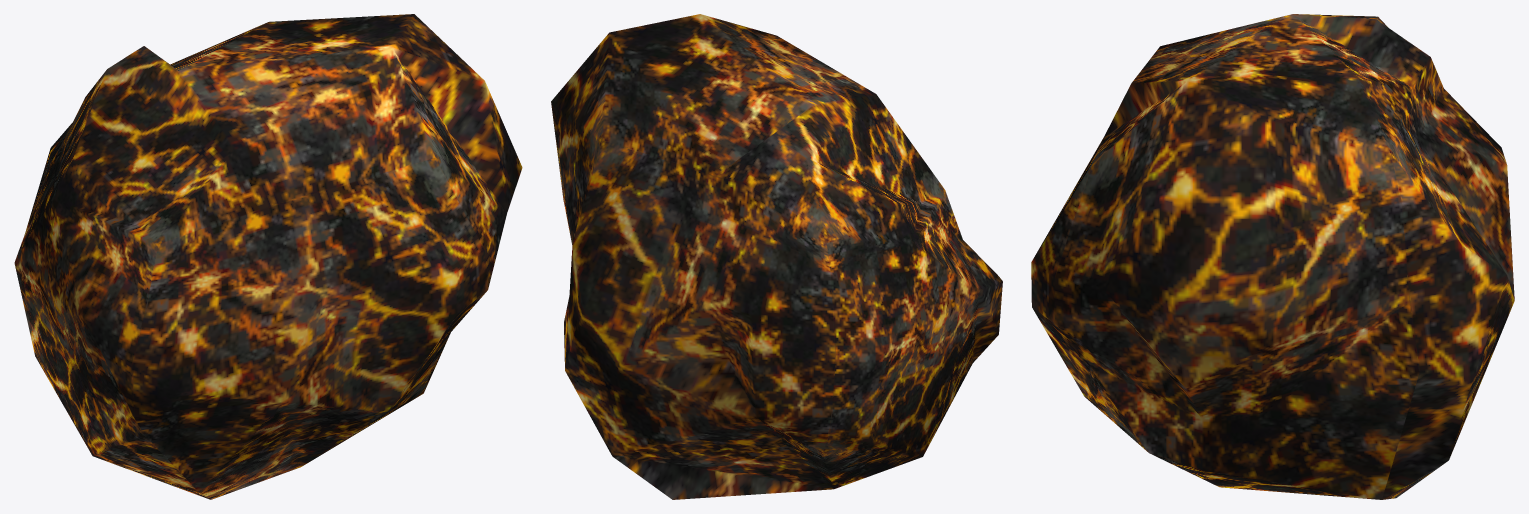
File: asteroid_moltenrock_medium_s02_l2.fbx
3 renders of one model, left to right at view 1: azimuth 30°, elevation 25°; view 2: azimuth 150°, elevation 25°; view 3: azimuth 270°, elevation 25°, orthographic. The views are drawn at different scales.
Visible parts, largest first — view 1: mesh_node; view 2: mesh_node; view 3: mesh_node.
Part boxes in pixels (left/top/right/bottom): mesh_node: left=14, top=14, right=522, bottom=499; mesh_node: left=551, top=14, right=1002, bottom=499; mesh_node: left=1031, top=14, right=1514, bottom=499.
Size of the model in its own units: 74.09 by 72.01 by 67.71.
